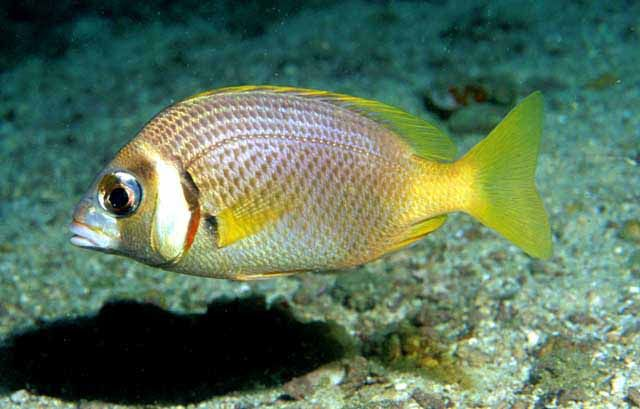fish: (67, 84, 554, 281)
